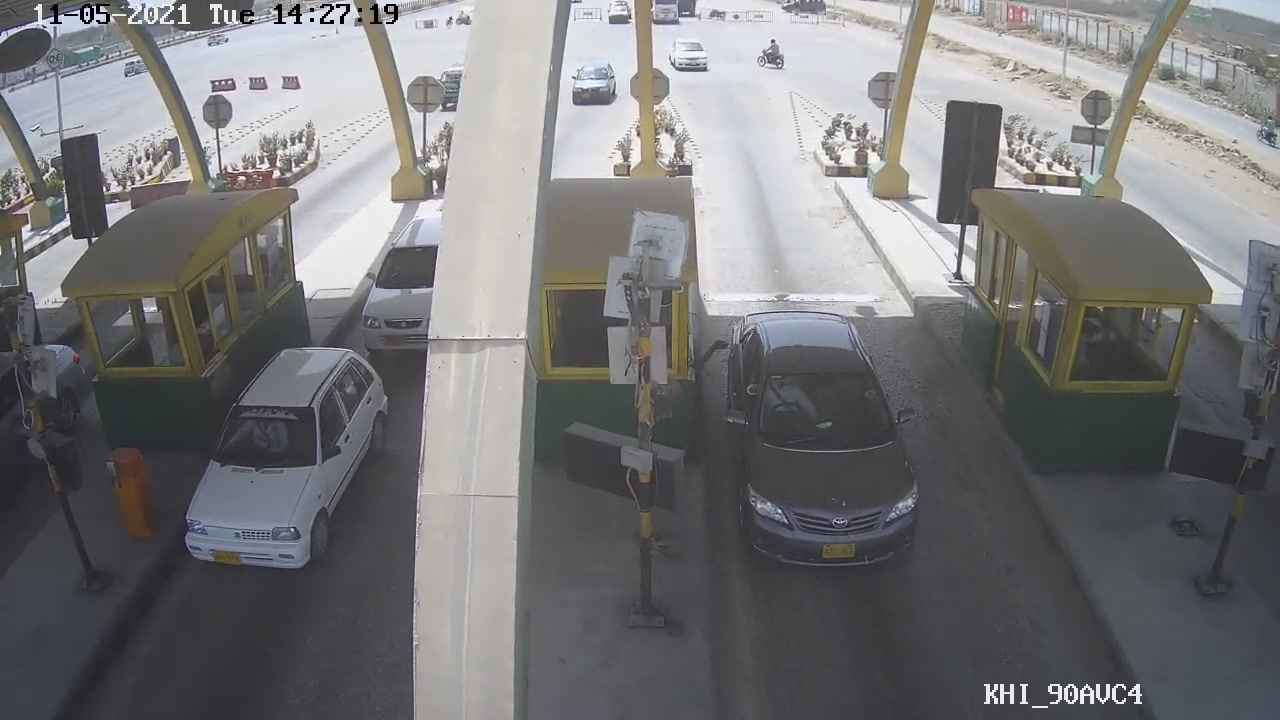F1: (722, 303, 936, 570)
